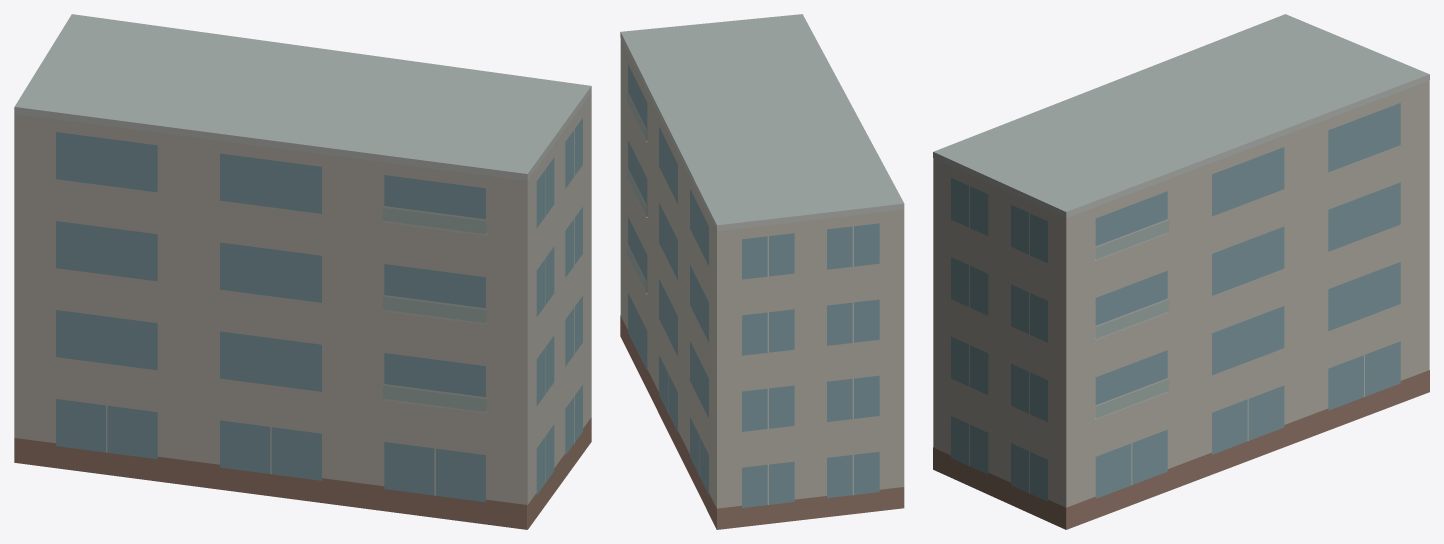
The model's file is survey-upis-32583928.glb.
3 views of the same model, side by side, from view 1: azimuth 30°, elevation 25°; view 2: azimuth 150°, elevation 25°; view 3: azimuth 270°, elevation 25° (orthographic). The views are drawn at different scales.
Visible parts, largest first — view 1: survey-upis-32583928.tmp; view 2: survey-upis-32583928.tmp; view 3: survey-upis-32583928.tmp.
Boxes of the visible parts, bbox=[...] form: survey-upis-32583928.tmp: bbox=[14, 14, 591, 529]; survey-upis-32583928.tmp: bbox=[620, 14, 904, 529]; survey-upis-32583928.tmp: bbox=[933, 14, 1429, 529].
Size of the model in its own units: 17.11 by 12.8 by 18.13.
